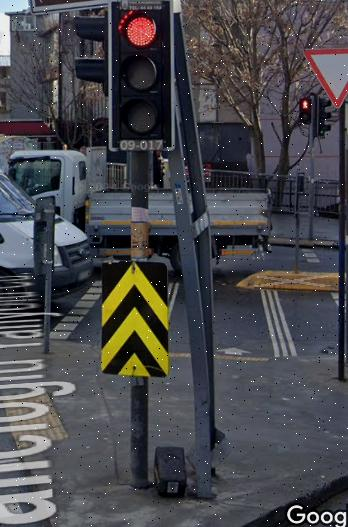redlight: (107, 4, 176, 152)
